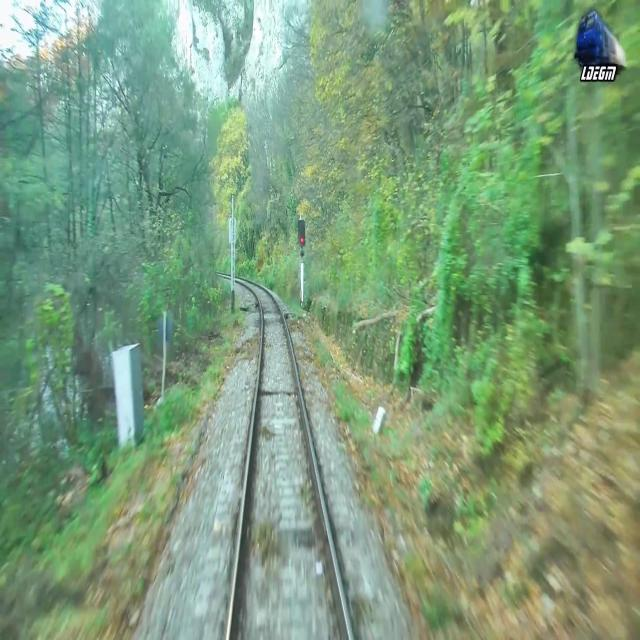rail-track: (230, 280, 349, 639)
